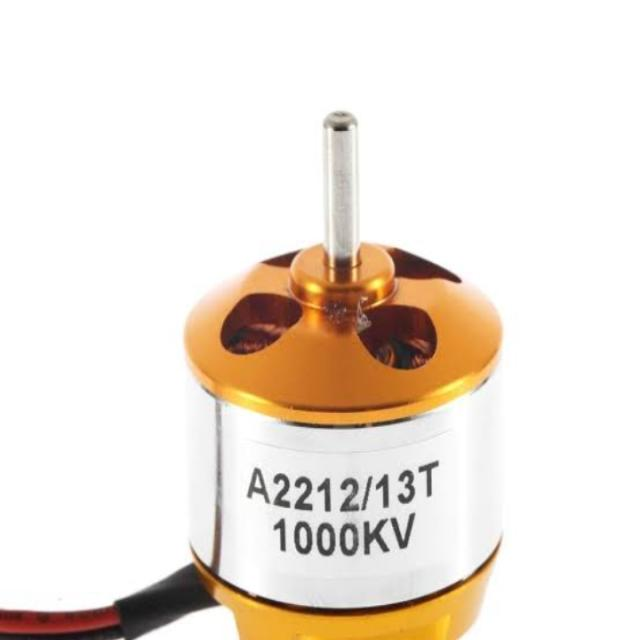motor: (178, 110, 506, 635)
